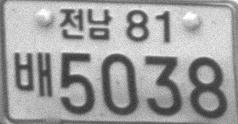0: (100, 52, 139, 116)
1: (154, 9, 174, 45)
3: (144, 54, 183, 116)
5: (59, 51, 95, 115)
8: (188, 55, 228, 119), (125, 9, 149, 42)
배: (14, 51, 53, 99)
전남_H: (59, 8, 112, 40)
